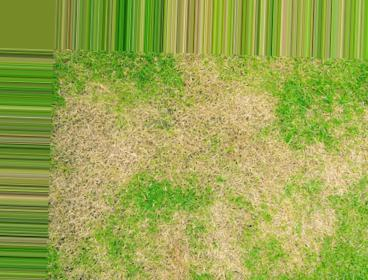patch: (147, 116, 279, 198), (241, 137, 324, 240), (65, 100, 120, 180), (182, 227, 265, 266)
